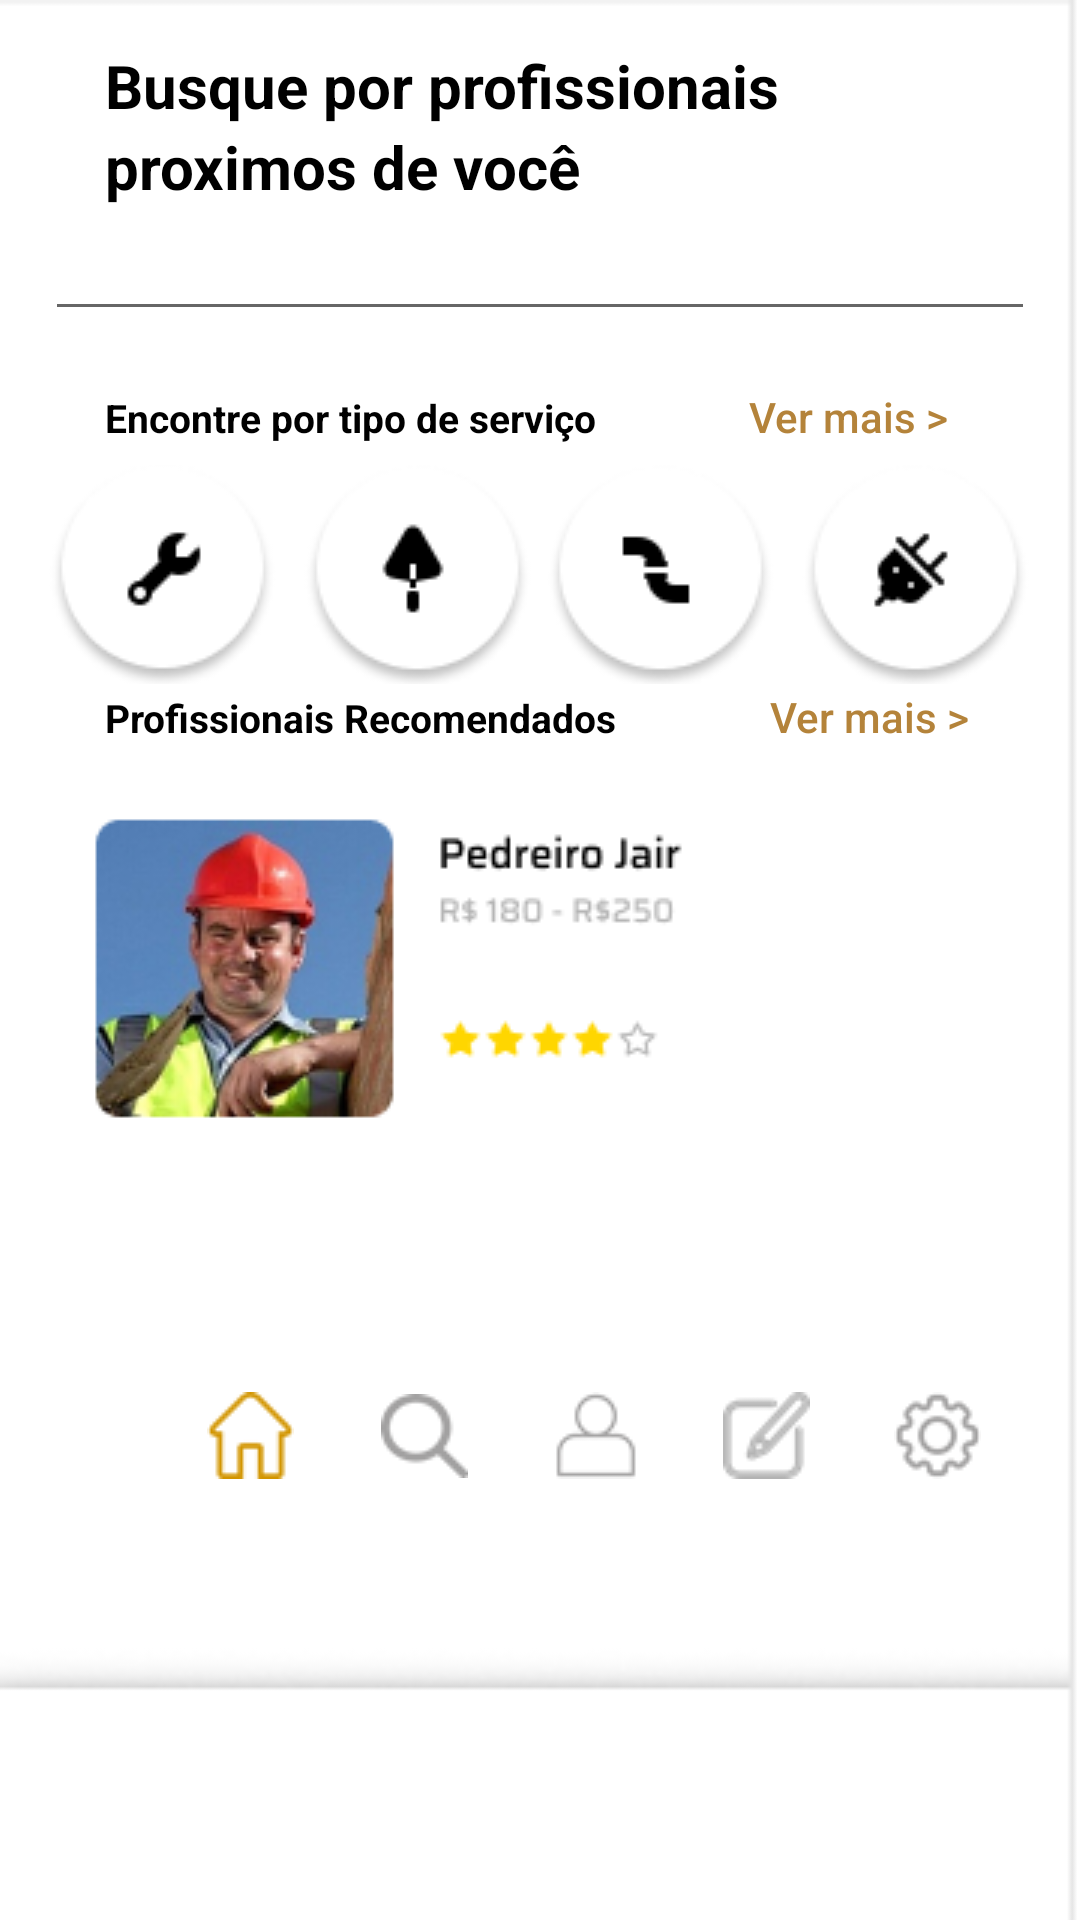

Screen size 1080 × 1920. Icon name, then its box in pixels as rect(x1, y1, x2, y2):
config: rect(896, 1394, 979, 1477)
home: rect(207, 1392, 294, 1479)
pessoa: rect(556, 1394, 636, 1477)
searche: rect(381, 1394, 468, 1478)
